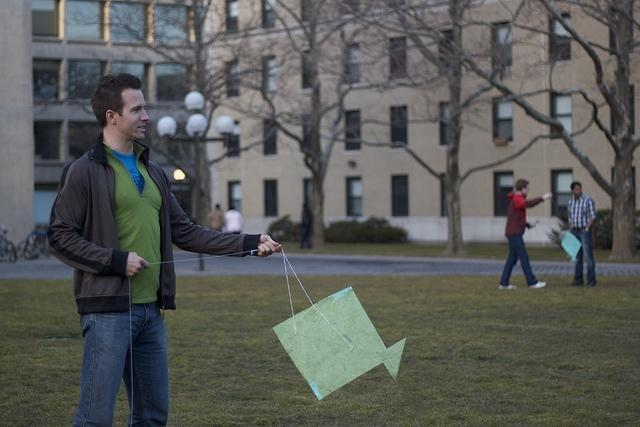bicycle: (12, 222, 50, 261), (1, 224, 18, 262)
